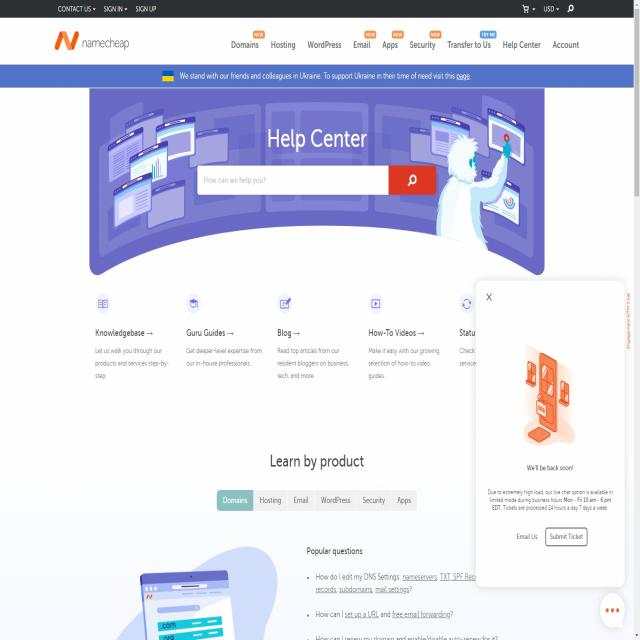menu-bar: (223, 26, 583, 60)
menu-panel: (214, 485, 418, 514)
search: (193, 159, 438, 199)
